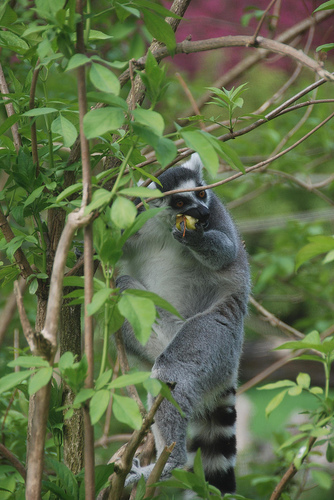cat: (103, 147, 250, 496)
